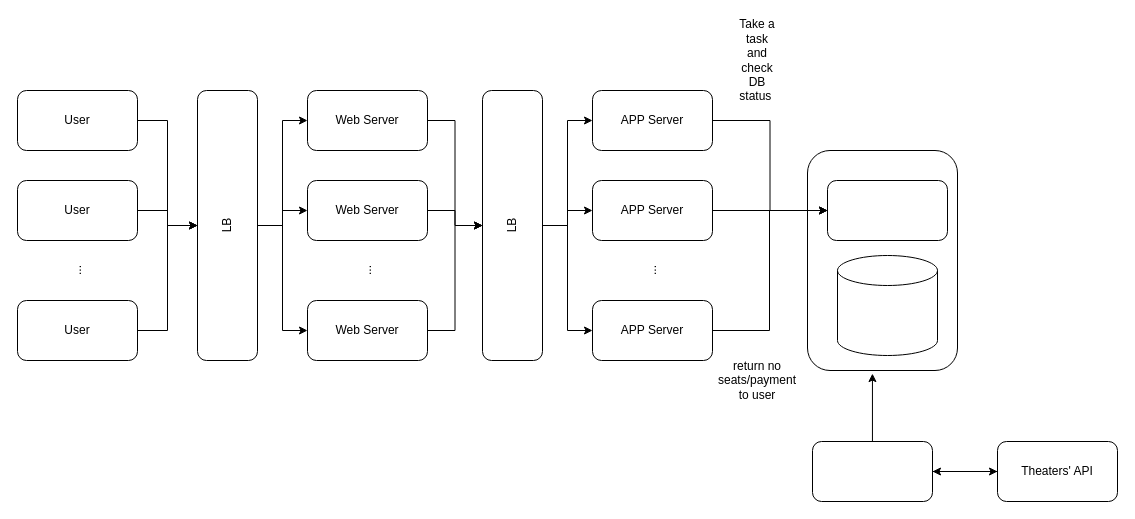
This 1135x519 diagram has some shape labels left out. The shapes that lost their labels are listed below. From the top down, each one's centre as x and y in pixels, then its label:
At point 887,210: "Cache".
At point 887,305: "DB".
At point 872,471: "TicketSyncWorker".
